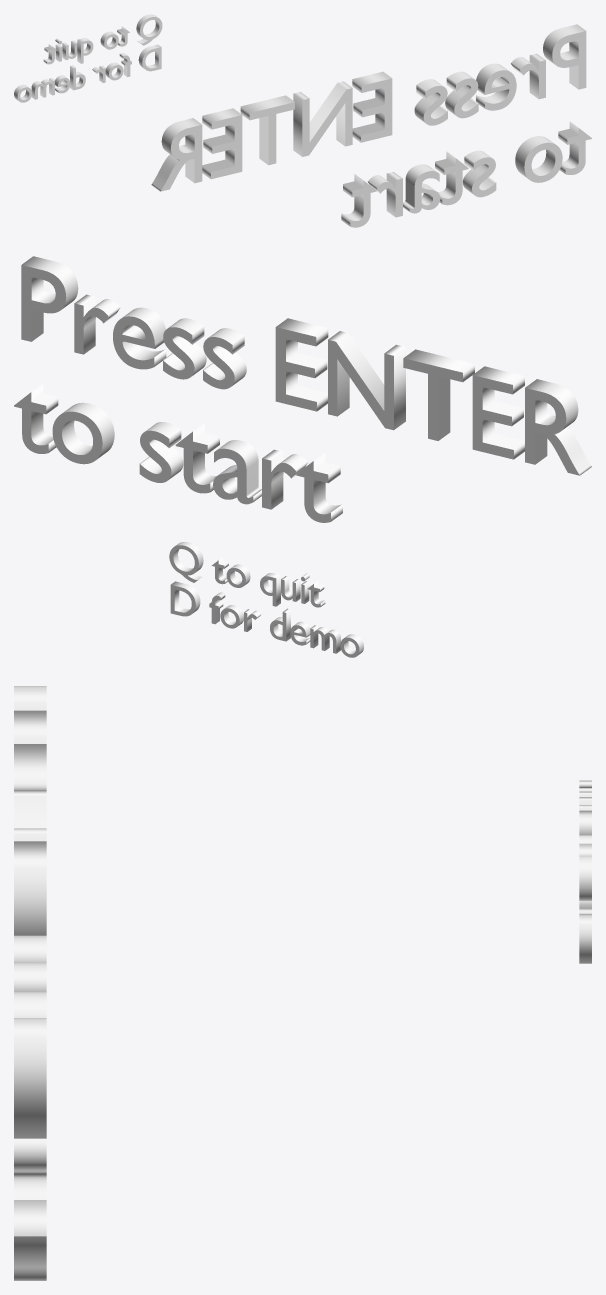
Rendered from start_running.obj.
The picture shows the model from 3 angles, top to bottom: view 1: azimuth 30°, elevation 25°; view 2: azimuth 150°, elevation 25°; view 3: azimuth 270°, elevation 25°; orthographic projection. The views are drawn at different scales.
Visible parts, largest first — view 1: Text, Text.012; view 2: Text, Text.012; view 3: Text, Text.012.
Boxes of the visible parts, box(x1,y1,x2,y2) form: Text: box(151, 24, 591, 227); Text.012: box(14, 14, 162, 102); Text: box(14, 256, 591, 522); Text.012: box(169, 542, 363, 657); Text: box(14, 686, 46, 1280); Text.012: box(579, 780, 591, 963).
Bounding box in the file's own units: 6.1 × 1.9 × 3.96.
1 material, 1 textured.
